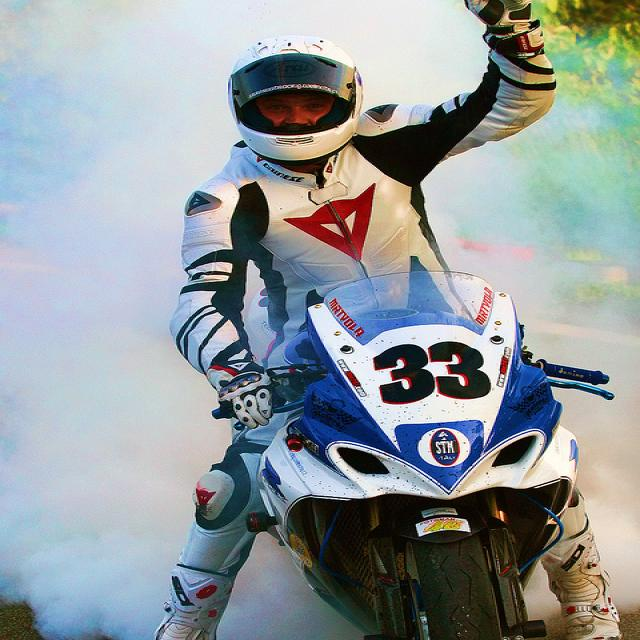motor: (213, 270, 625, 640)
